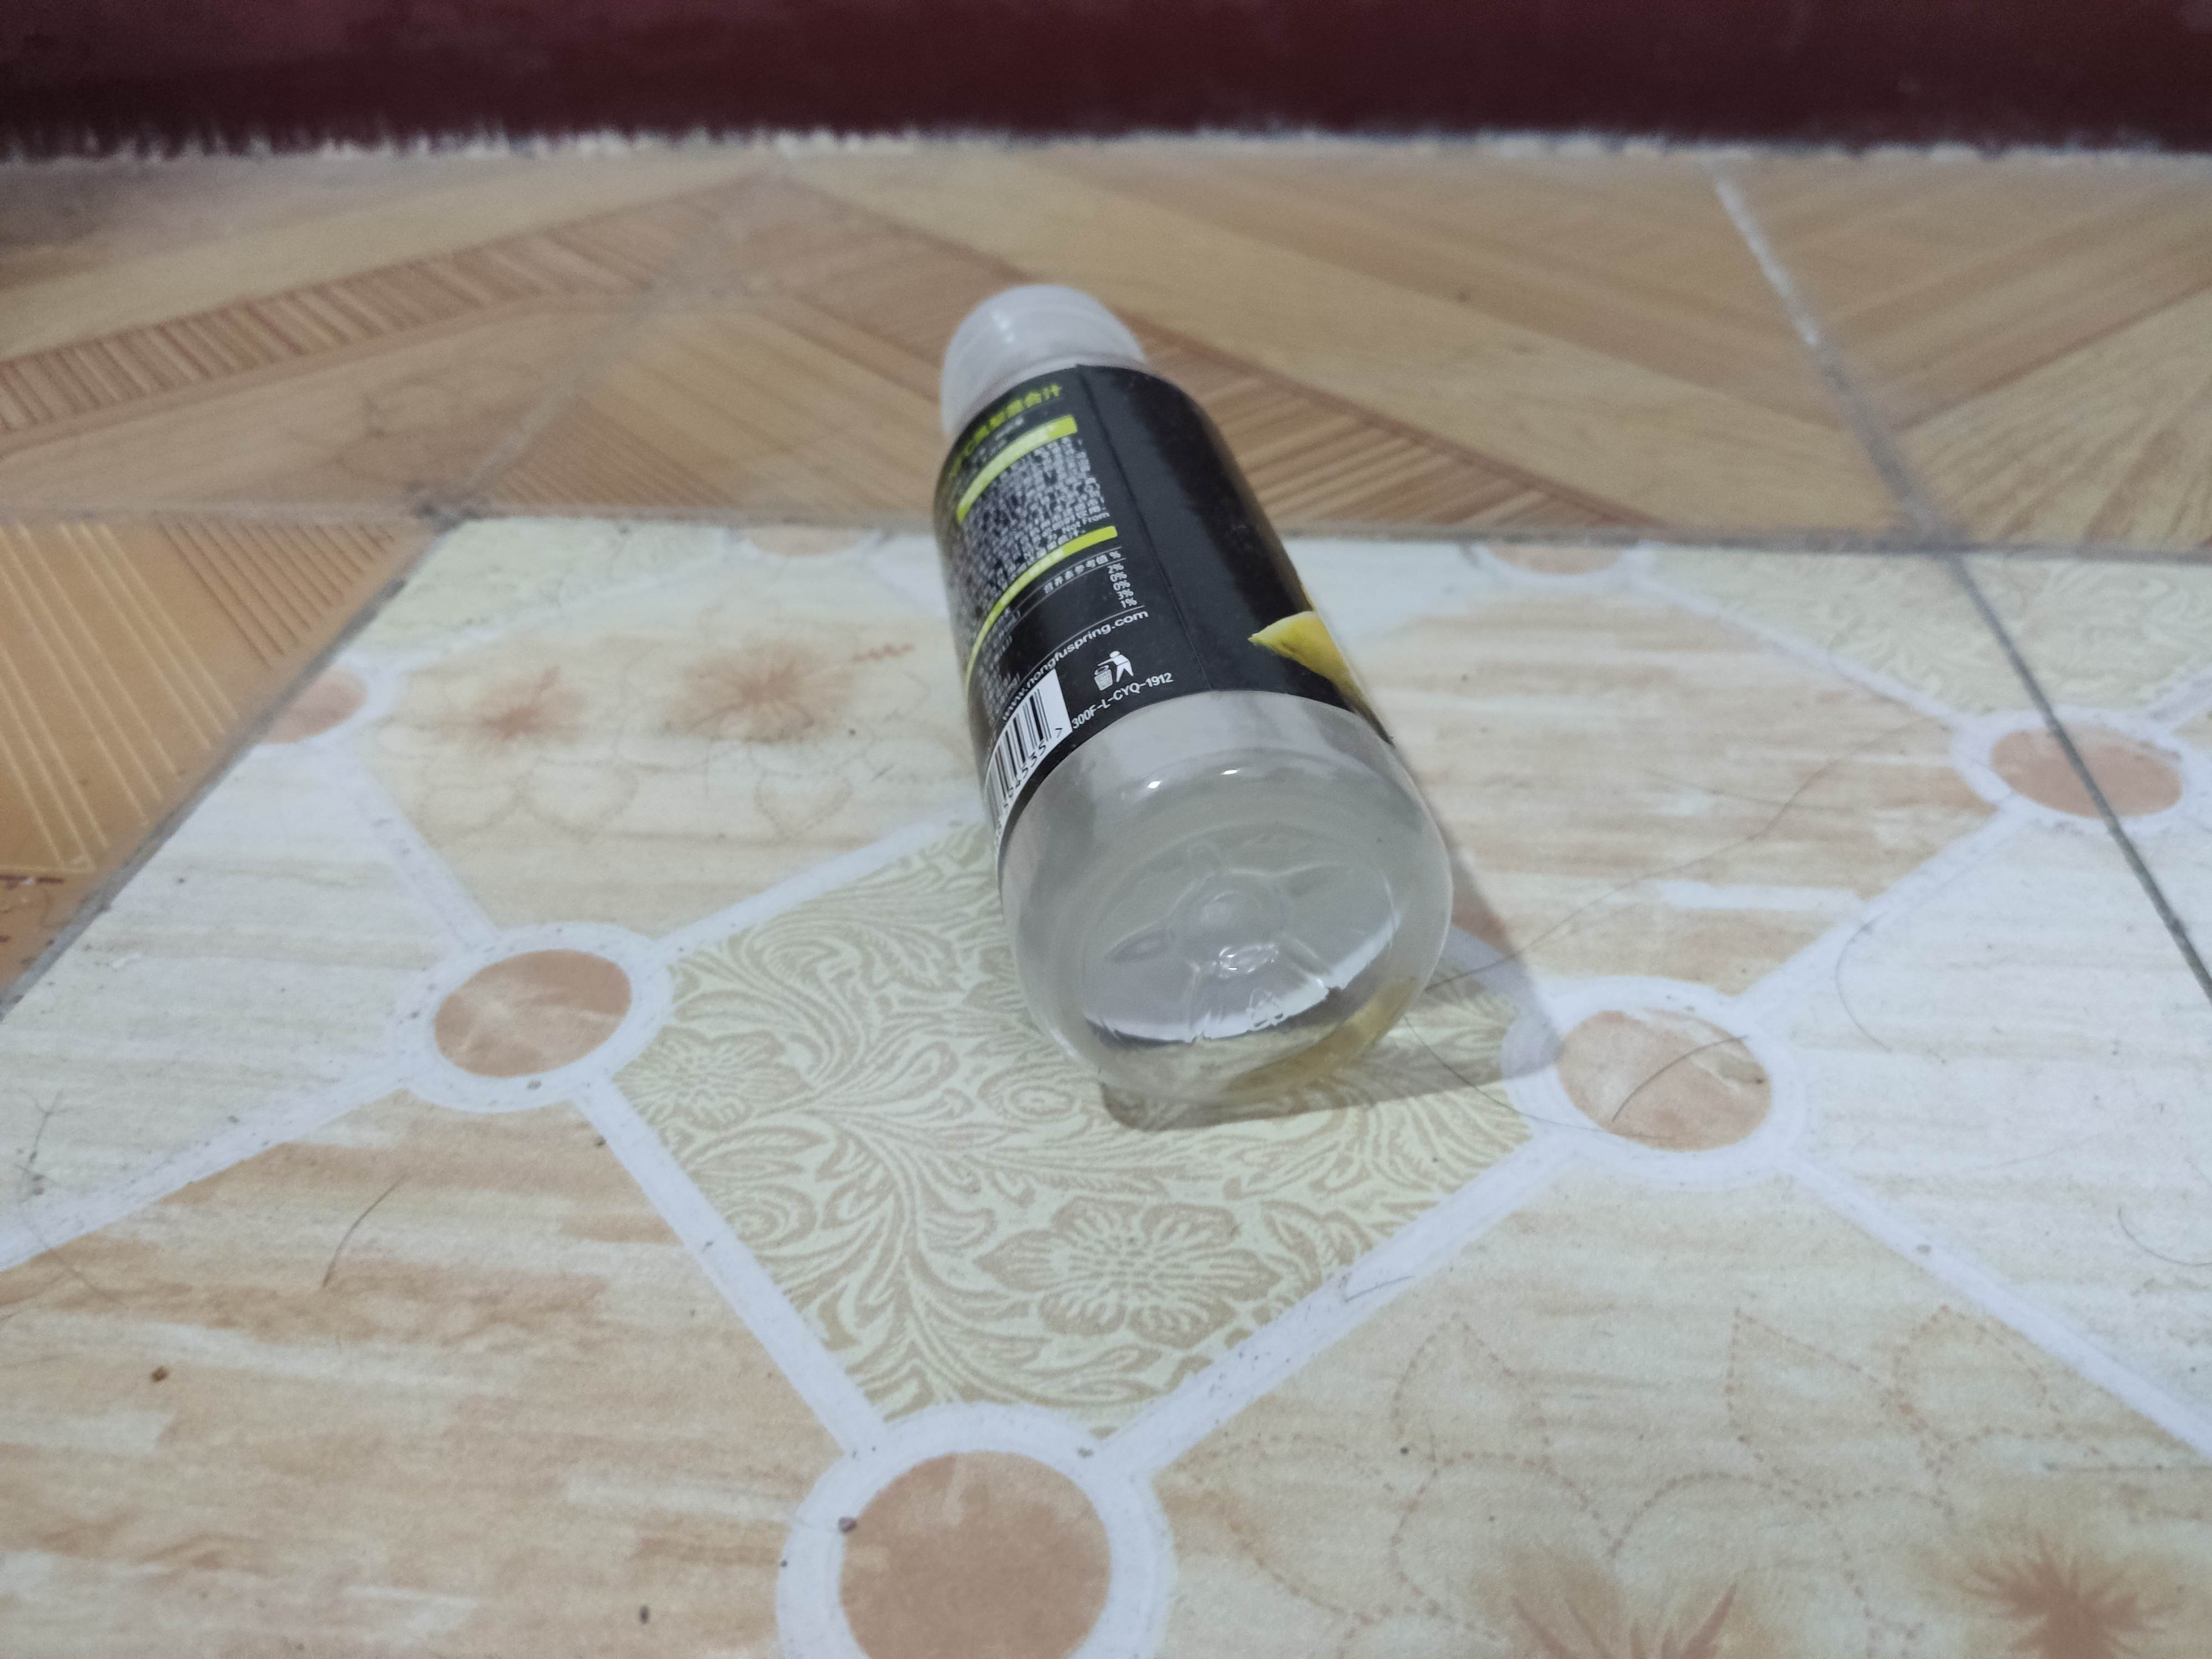Plastic Bottle: (923, 274, 1461, 1124)
